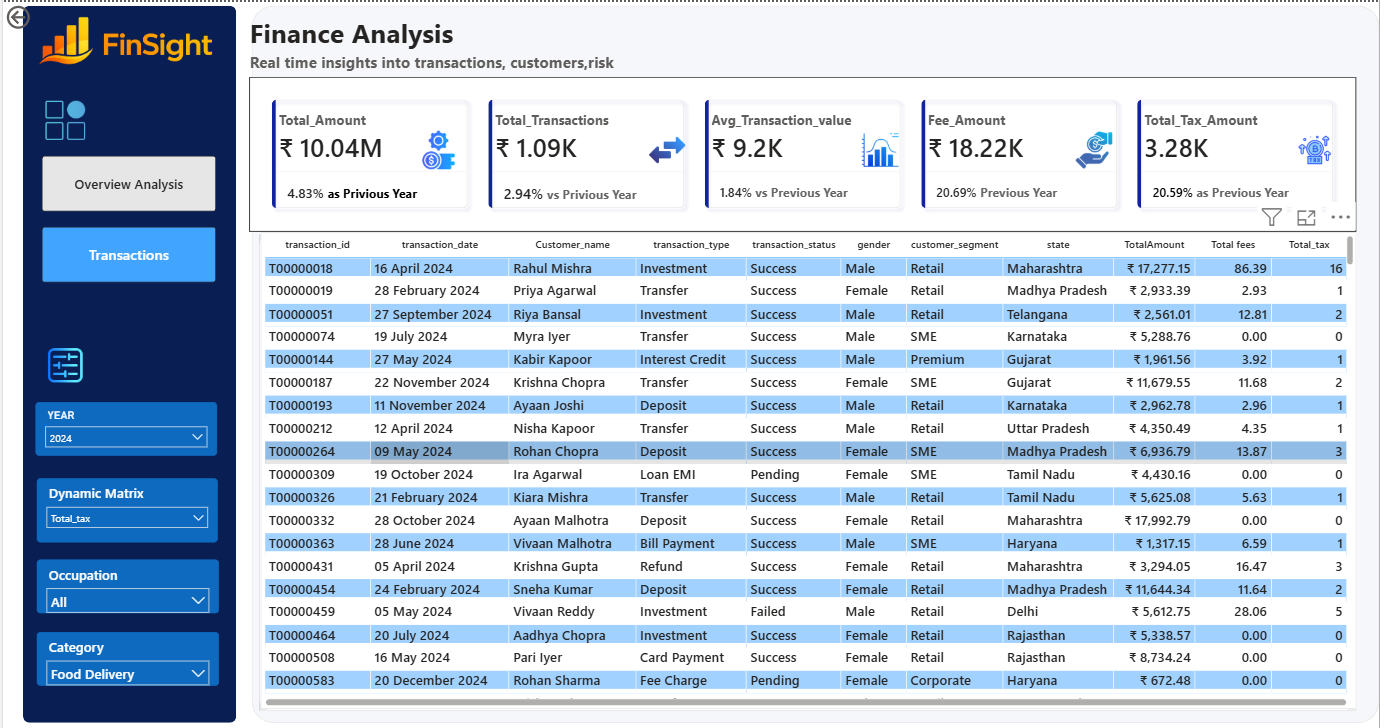

This screenshot's page, from the dashboard's own definition file:
{"tool":"powerbi","page":{"name":"Transactions ","canvas":[1800,950],"ordinal":1},"visuals":[{"type":"shape","box":[26.9,5.1,279,938.1],"z":0},{"type":"shape","box":[325,5.1,1475.3,938.1],"z":1000},{"type":"image","box":[26.9,5.1,274.5,92.6],"z":2000},{"type":"cardVisual","fields":{"Data":["calander__table.dashboard title"]},"box":[306.5,0,547.3,107.8],"z":3000},{"type":"cardVisual","fields":{"Data":["finance_transactions.TotalAmount","finance_transactions.Total Transactions","calander__table.AvgTransaction value","Sum(finance_transactions.fee_amount)","finance_transactions.Total_Tax_Amount"]},"box":[321.7,97.7,1448.4,202.1],"z":4000},{"type":"image","box":[544.5,168.6,50.7,50.7],"z":5000},{"type":"image","box":[844.4,168.6,50.7,50.7],"z":6000},{"type":"image","box":[1391.9,168.6,71.6,50.7],"z":7000},{"type":"image","box":[1117.4,168.6,61.2,50.7],"z":8000},{"type":"image","box":[1690.3,168.6,50.7,50.7],"z":9000},{"type":"shape","box":[335.7,304.3,1435.2,622.1],"z":10000},{"type":"tableEx","fields":{"Values":["finance_transactions.transaction_id","finance_transactions.transaction_date","customers.Customer_name ","finance_transactions.transaction_type","finance_transactions.transaction_status","customers.gender","customers.customer_segment","customers.state","finance_transactions.TotalAmount","calander__table.Total fees","calander__table.Total_tax"]},"box":[336.4,300.3,1434.8,624.7],"z":11000},{"type":"actionButton","box":[0,0,100,40],"z":12000},{"type":"slicer","fields":{"Values":["calander__table.YEAR"]},"box":[43,523.3,237.5,70.7],"z":13000},{"type":"slicer","fields":{"Values":["Dynamic Matrix.Dynamic Matrix"]},"box":[43.9,622.7,236.8,84.1],"z":14000},{"type":"slicer","fields":{"Values":["customers.occupation"]},"box":[43.9,729.1,238.6,70.4],"z":15000},{"type":"slicer","fields":{"Values":["finance_transactions.merchant_category"]},"box":[43.9,823.5,238.6,70.4],"z":16000},{"type":"pageNavigator","box":[50.8,200.5,228.3,166.5],"z":17000},{"type":"image","box":[51.5,128.7,61.8,51.5],"z":18000},{"type":"image","box":[51.5,449.7,61.8,51.5],"z":19000}]}

Visuals, with their boxes on the page's 1800x950 design canvas (x1, y1, x2, y2). These are canvas units, not pixel positions in the 1385x728 screenshot, which may show the page scaled, cropped or inside an application window:
shape: 27 5 306 943
shape: 325 5 1800 943
image: 27 5 301 98
cardVisual - calander__table.dashboard title: 306 0 854 108
cardVisual - finance_transactions.TotalAmount x finance_transactions.Total Transactions: 322 98 1770 300
image: 544 169 595 219
image: 844 169 895 219
image: 1392 169 1464 219
image: 1117 169 1179 219
image: 1690 169 1741 219
shape: 336 304 1771 926
tableEx - finance_transactions.transaction_id x finance_transactions.transaction_date: 336 300 1771 925
actionButton: 0 0 100 40
slicer - calander__table.YEAR: 43 523 280 594
slicer - Dynamic Matrix.Dynamic Matrix: 44 623 281 707
slicer - customers.occupation: 44 729 282 800
slicer - finance_transactions.merchant_category: 44 824 282 894
pageNavigator: 51 200 279 367
image: 52 129 113 180
image: 52 450 113 501
